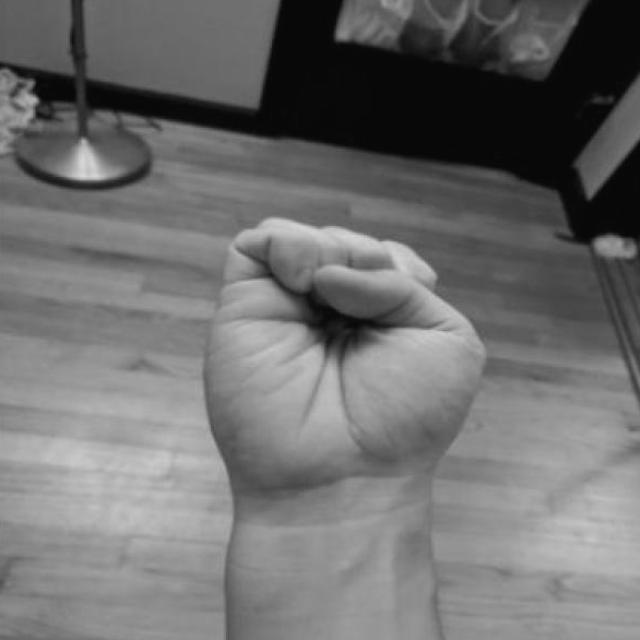E: (171, 205, 517, 589)
